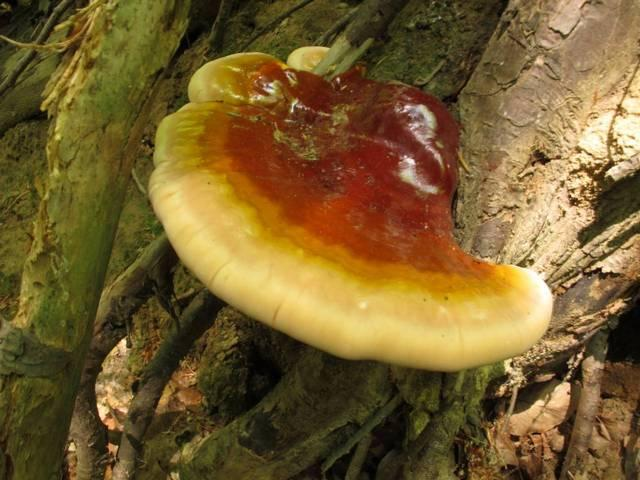Non-edible Mushroom: (145, 46, 554, 373)
